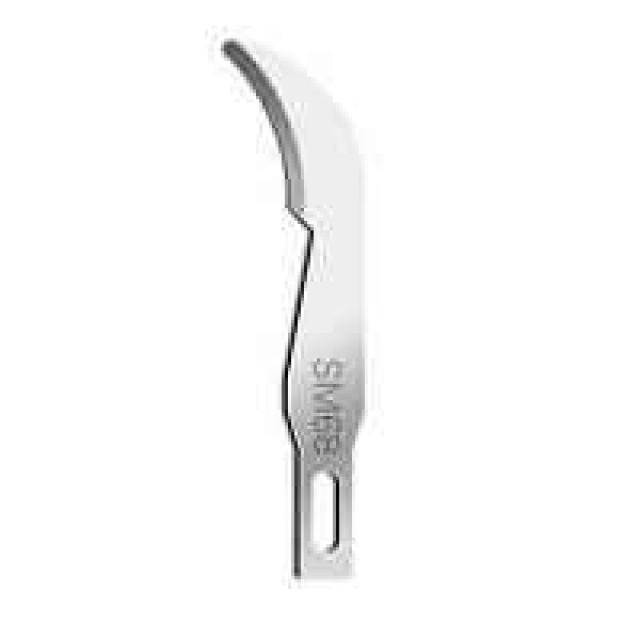B3: (221, 29, 384, 582)
